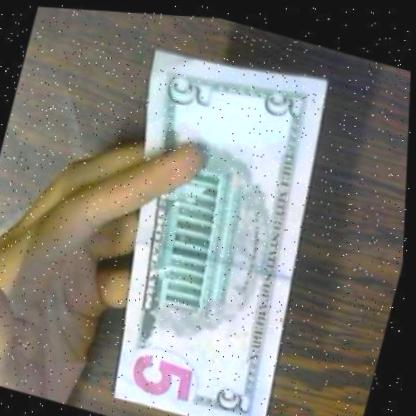five-back: (67, 23, 360, 416)
